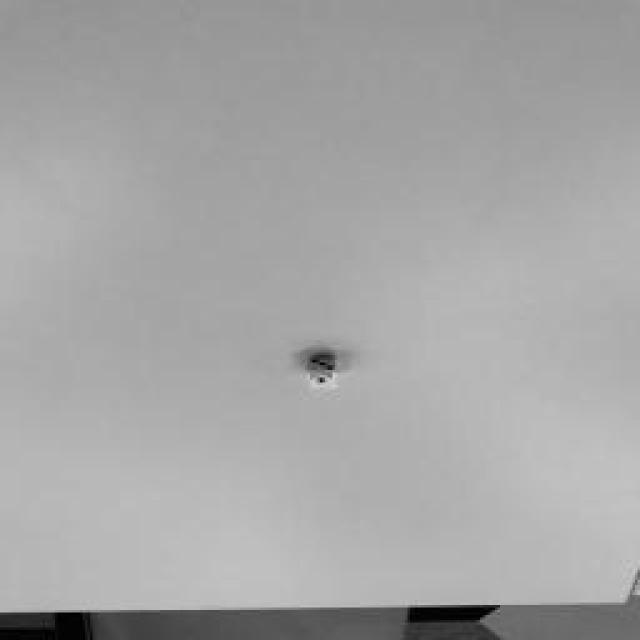dice_1: (309, 371, 336, 389)
